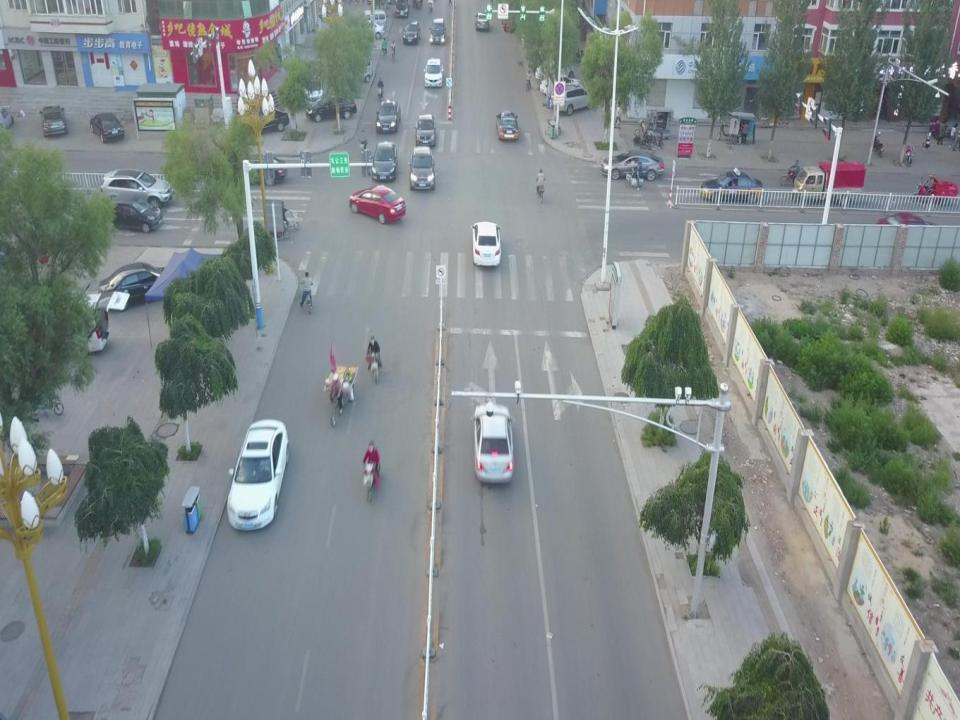car: (19, 291, 130, 355), (227, 420, 288, 531), (97, 262, 180, 310), (472, 403, 516, 484), (101, 168, 174, 208), (102, 194, 163, 232), (349, 184, 406, 224), (700, 166, 763, 202), (601, 148, 665, 180), (877, 212, 949, 240), (232, 108, 290, 138), (231, 154, 286, 185), (470, 222, 502, 266), (550, 84, 596, 114), (306, 95, 358, 121), (408, 146, 436, 190), (90, 111, 125, 143), (370, 141, 398, 181), (540, 73, 584, 96), (535, 59, 575, 82), (375, 100, 401, 134), (40, 104, 67, 136), (414, 113, 438, 146), (496, 110, 518, 140), (304, 72, 324, 104), (354, 19, 385, 39), (423, 58, 444, 86), (429, 16, 447, 43), (402, 20, 420, 44), (502, 5, 518, 32), (474, 12, 490, 30), (394, 0, 410, 17)
van: (333, 50, 373, 84), (358, 10, 386, 30)
